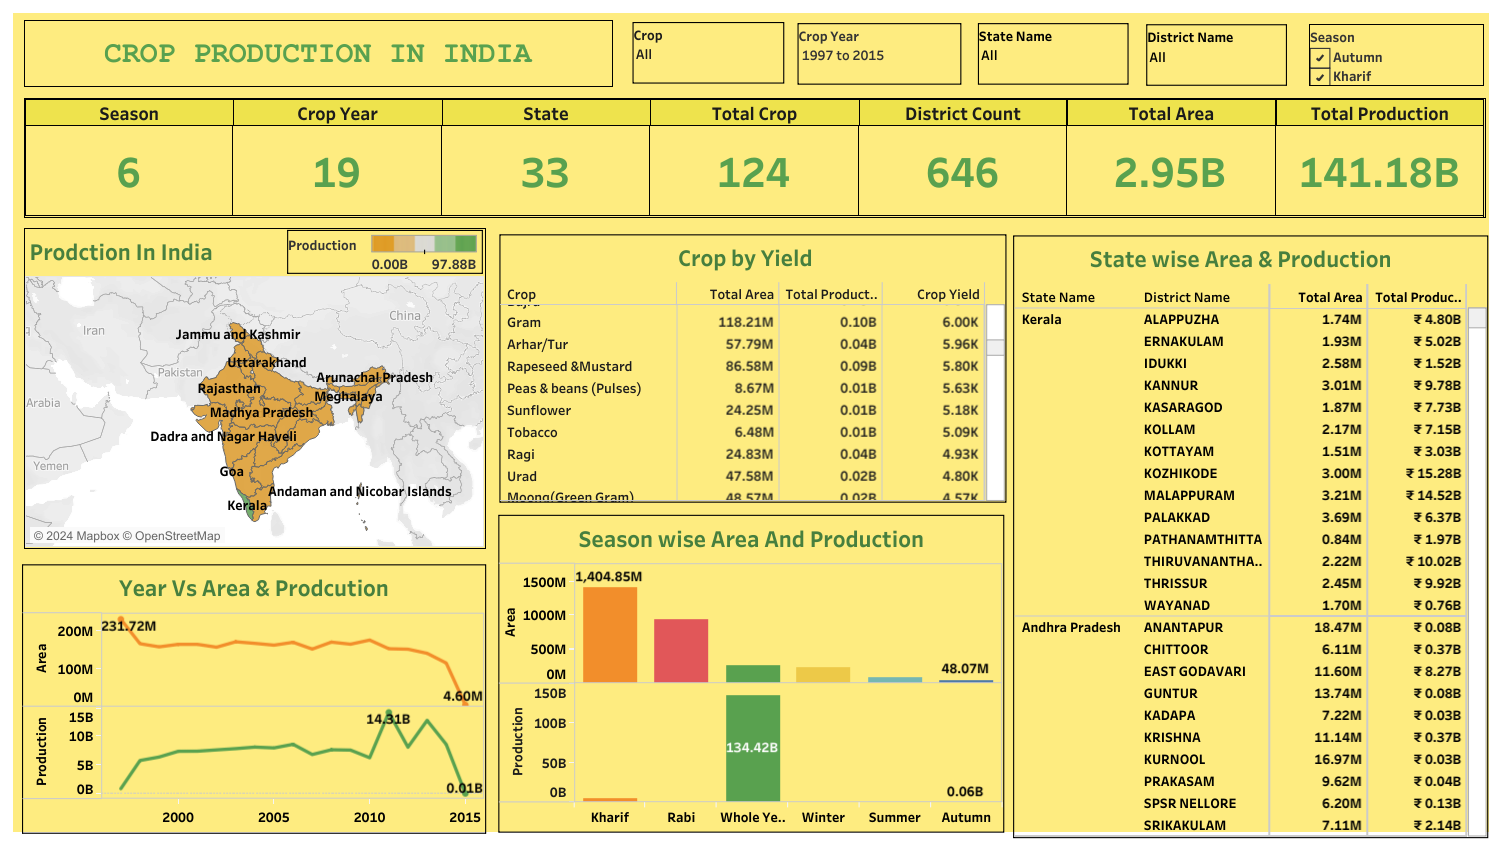

What the dashboard file says about the page in this screenshot:
{"tool":"tableau","page":{"name":"Crop Production in India Dashboard","canvas":[1366,768],"ordinal":0},"visuals":[{"type":"image","param":"Image/5442934.jpg","box":[8,8,1350,752]},{"type":"text","box":[22,18,535,61]},{"type":"filter","title":"Crop wise Area & Prodcution","param":"[federated.0ily6gf1vor2ub16owtgk0zbrpkq].[none:Crop:nk]","box":[575,20,138,56]},{"type":"filter","title":"Prodction In India","param":"[federated.0ily6gf1vor2ub16owtgk0zbrpkq].[none:Crop_Year:qk]","box":[725,21,149,56]},{"type":"filter","title":"State  Vs Area And Production ","param":"[federated.0ily6gf1vor2ub16owtgk0zbrpkq].[none:State_Name:nk]","box":[889,21,137,56]},{"type":"filter","title":"State  Vs Area And Production ","param":"[federated.0ily6gf1vor2ub16owtgk0zbrpkq].[none:District_Name:nk]","box":[1042,22,128,56]},{"type":"filter","title":"Prodction In India","param":"[federated.0ily6gf1vor2ub16owtgk0zbrpkq].[none:Season:nk]","box":[1190,22,159,56]},{"type":"worksheet","title":"KPI","mark":"Automatic","box":[22,89,1329,109]},{"type":"worksheet","title":"Prodction In India","mark":"Automatic","box":[22,207,420,292]},{"type":"legend","title":"Prodction In India","param":"[federated.0ily6gf1vor2ub16owtgk0zbrpkq].[sum:Production:qk]","box":[261,209,178,40]},{"type":"worksheet","title":"Crop wise Area & Prodcution","mark":"Automatic","rows":["Crop"],"box":[454,213,461,244]},{"type":"worksheet","title":"State  Vs Area And Production ","mark":"Automatic","rows":["State_Name","District_Name"],"box":[921,214,432,548]},{"type":"worksheet","title":"Season Vs Area & Prodcution","mark":"Bar","rows":["Area","Production"],"cols":["Season"],"box":[453,468,460,289]},{"type":"worksheet","title":"Year Vs Area & Prodcution","mark":"Automatic","rows":["Area","Production"],"cols":["Crop_Year"],"box":[20,513,422,245]}]}

Visuals, with their boxes in screenshot pixels (x1, y1, x2, y2), scaled from the page's 1366x768 canvas onto the 1502x844 screenshot:
image: [x1=9, y1=9, x2=1493, y2=835]
text: [x1=24, y1=20, x2=612, y2=87]
"Crop wise Area & Prodcution" filter: [x1=632, y1=22, x2=784, y2=84]
"Prodction In India" filter: [x1=797, y1=23, x2=961, y2=85]
"State  Vs Area And Production " filter: [x1=978, y1=23, x2=1128, y2=85]
"State  Vs Area And Production " filter: [x1=1146, y1=24, x2=1286, y2=86]
"Prodction In India" filter: [x1=1308, y1=24, x2=1483, y2=86]
"KPI" worksheet: [x1=24, y1=98, x2=1486, y2=218]
"Prodction In India" worksheet: [x1=24, y1=227, x2=486, y2=548]
"Prodction In India" legend: [x1=287, y1=230, x2=483, y2=274]
"Crop wise Area & Prodcution" worksheet: [x1=499, y1=234, x2=1006, y2=502]
"State  Vs Area And Production " worksheet: [x1=1013, y1=235, x2=1488, y2=837]
"Season Vs Area & Prodcution" worksheet (Bar marks): [x1=498, y1=514, x2=1004, y2=832]
"Year Vs Area & Prodcution" worksheet: [x1=22, y1=564, x2=486, y2=833]
